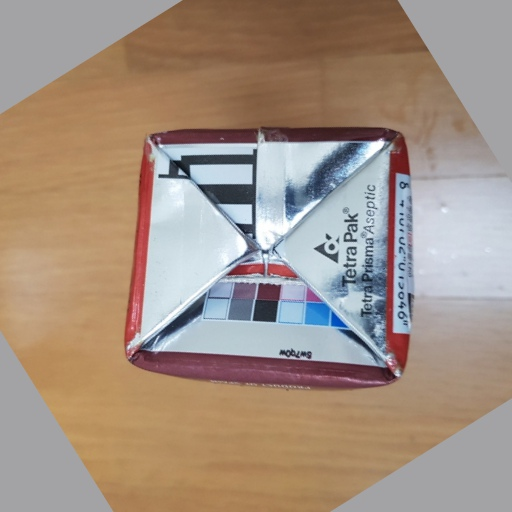Paper_0: (122, 115, 424, 406)
